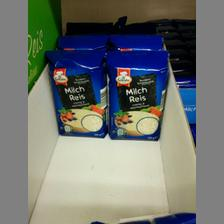Reis: (106, 49, 170, 141), (44, 48, 108, 136)
